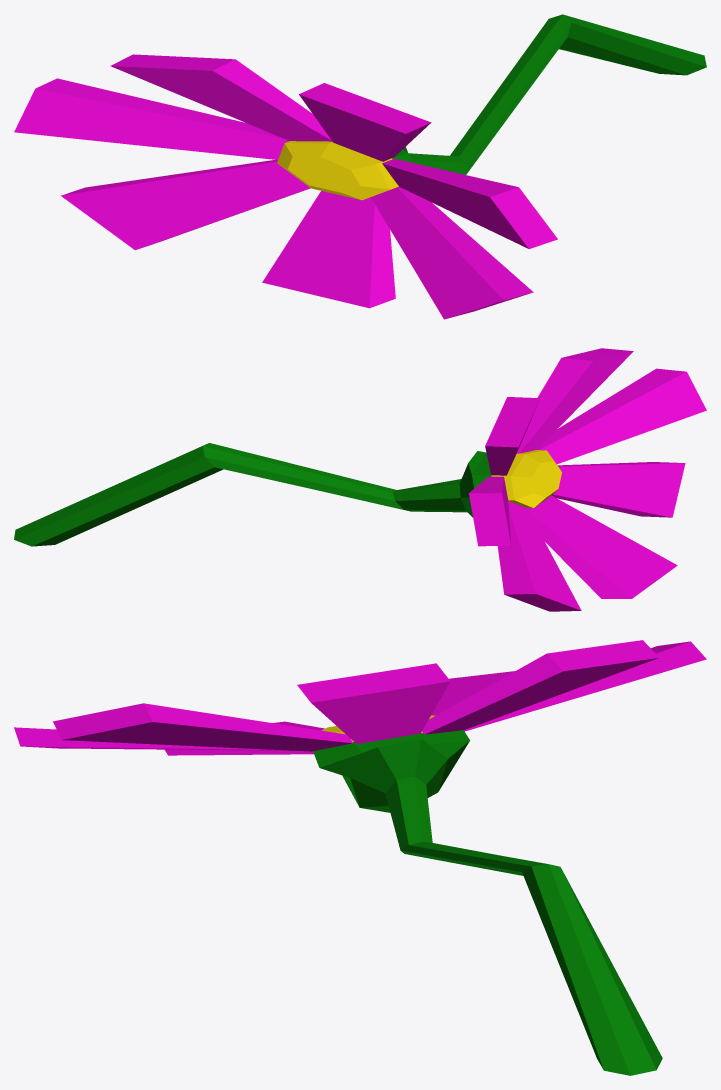
Rendered from FlowerSteppedOnPink.fbx.
3 renders of one model, top to bottom at view 1: azimuth 30°, elevation 25°; view 2: azimuth 150°, elevation 25°; view 3: azimuth 270°, elevation 25°, orthographic. The views are drawn at different scales.
Parts seen in each view (by area): view 1: flower; view 2: flower; view 3: flower.
Boxes of the visible parts, box(x1,y1,x2,y2) form: flower: box(14, 14, 706, 319); flower: box(14, 348, 706, 611); flower: box(14, 640, 706, 1075).
Bounding box in the file's own units: 21.61 × 4.55 × 18.1.
